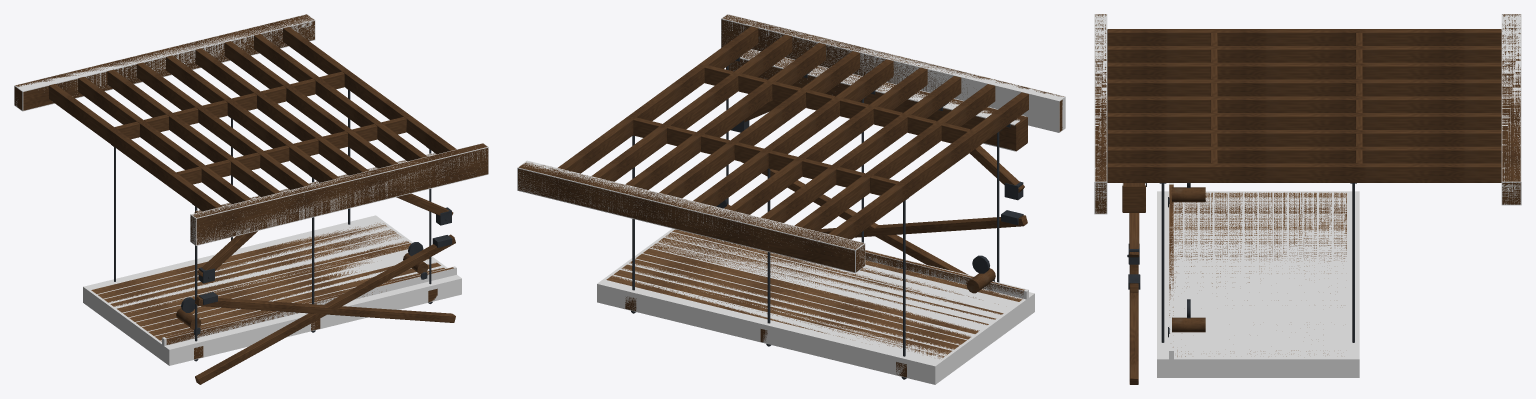
File: settlement_inn_undercroft_bay_4m.gltf
3 views of the same model, side by side, from view 1: azimuth 30°, elevation 25°; view 2: azimuth 150°, elevation 25°; view 3: azimuth 270°, elevation 25° (orthographic). The views are drawn at different scales.
Visible parts, largest first — view 1: settlement_inn_undercroft_bay_4m_LOD0, settlement_inn_undercroft_bay_4m_col; view 2: settlement_inn_undercroft_bay_4m_LOD0, settlement_inn_undercroft_bay_4m_col; view 3: settlement_inn_undercroft_bay_4m_LOD0, settlement_inn_undercroft_bay_4m_col.
Part boxes in pixels (left/top/right/bottom): settlement_inn_undercroft_bay_4m_LOD0: left=14, top=14, right=488, bottom=384; settlement_inn_undercroft_bay_4m_col: left=14, top=14, right=488, bottom=365; settlement_inn_undercroft_bay_4m_LOD0: left=518, top=15, right=1063, bottom=379; settlement_inn_undercroft_bay_4m_col: left=517, top=14, right=1065, bottom=384; settlement_inn_undercroft_bay_4m_LOD0: left=1095, top=14, right=1520, bottom=384; settlement_inn_undercroft_bay_4m_col: left=1094, top=14, right=1521, bottom=377.
Size of what is drawn, in the model's own units: 4 by 2.38 by 4.3.
Materials: 4 (4 with a texture image).
